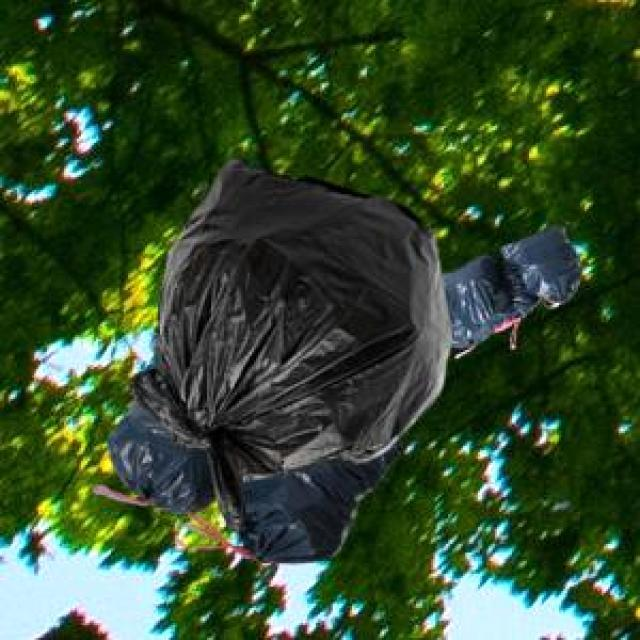Garbage_Bag: (127, 155, 449, 526), (91, 325, 402, 560), (438, 218, 577, 344)
